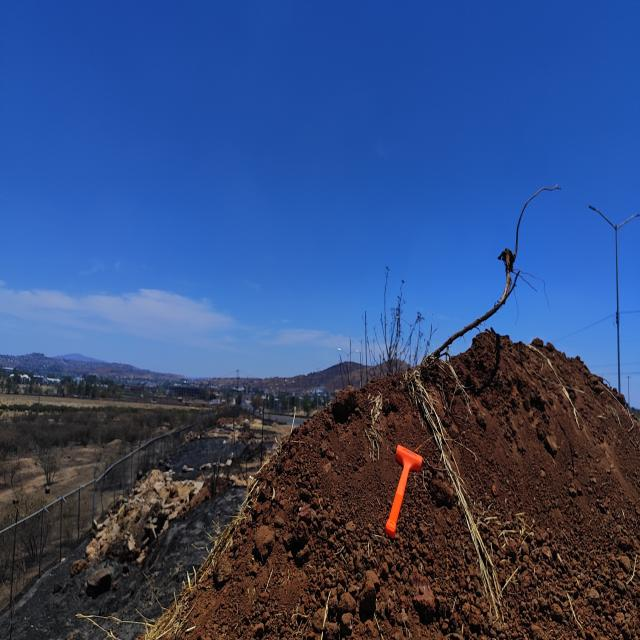Orange_hammer: (384, 442, 422, 539)
rock: (255, 520, 278, 570), (413, 586, 438, 617)
